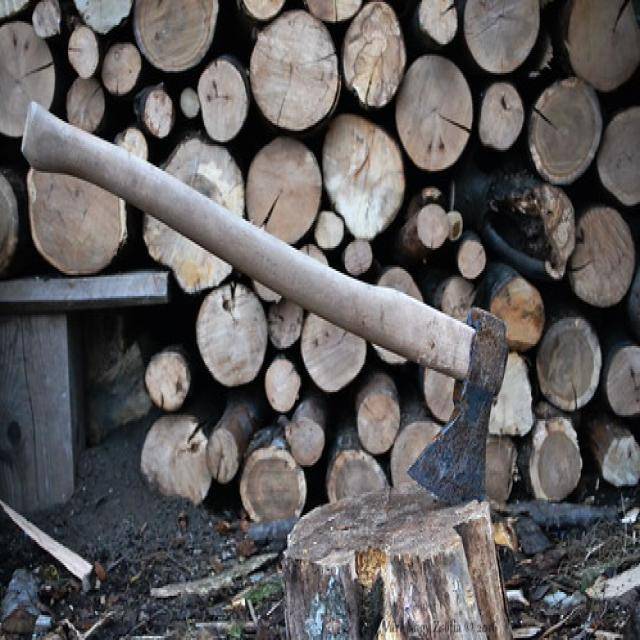Axe: (22, 102, 508, 504)
